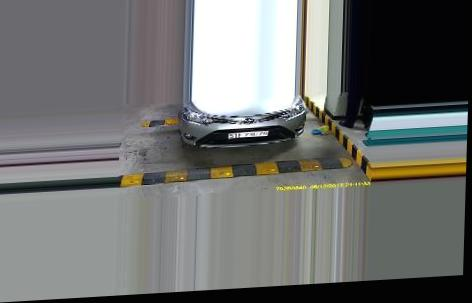License_Plate: (225, 126, 275, 142)
